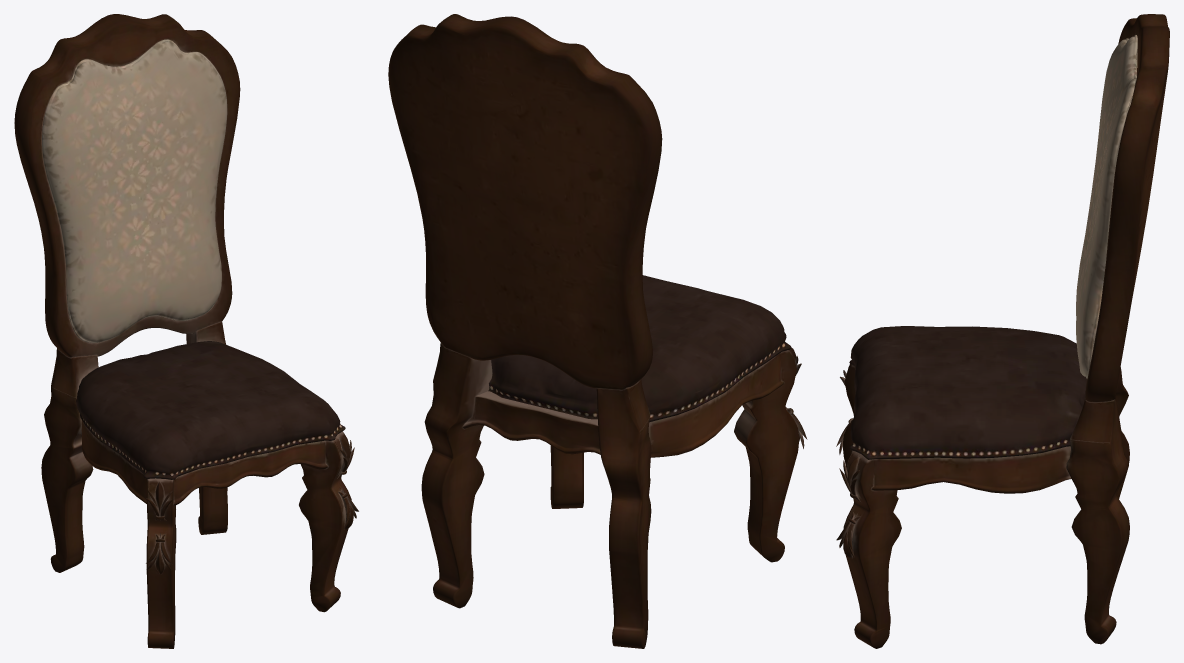
The model's file is victorian_chair.glb.
3 views of the same model, side by side, from view 1: azimuth 30°, elevation 25°; view 2: azimuth 150°, elevation 25°; view 3: azimuth 270°, elevation 25° (orthographic). The views are drawn at different scales.
Parts seen in each view (by area): view 1: victorian_chair_cloth_cloth_0, victorian_chair_wood_wood_0; view 2: victorian_chair_wood_wood_0, victorian_chair_cloth_cloth_0; view 3: victorian_chair_wood_wood_0, victorian_chair_cloth_cloth_0.
Part boxes in pixels (box(x1,y1,x2,y2)): victorian_chair_cloth_cloth_0: box(42, 39, 345, 479); victorian_chair_wood_wood_0: box(14, 14, 358, 648); victorian_chair_wood_wood_0: box(388, 14, 807, 648); victorian_chair_cloth_cloth_0: box(488, 275, 791, 422); victorian_chair_wood_wood_0: box(836, 14, 1169, 648); victorian_chair_cloth_cloth_0: box(849, 35, 1137, 459).
Bounding box in the file's own units: 0.6486 × 1.46 × 0.7747.
2 materials, 2 textured.
